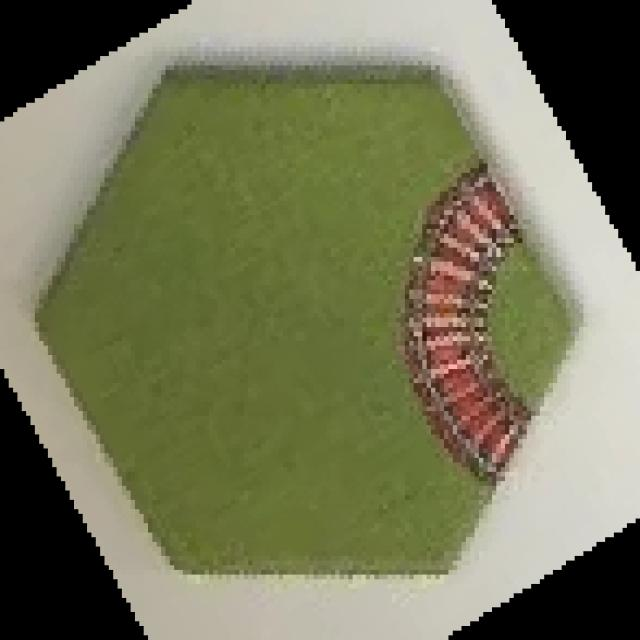1_2: (30, 60, 586, 579)
